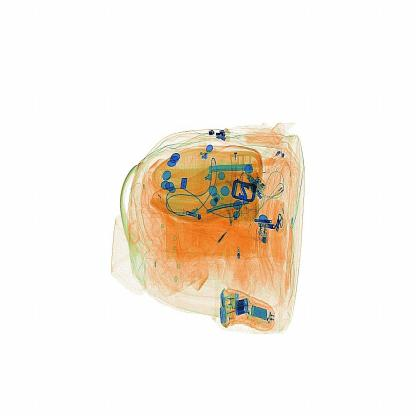wrench: (214, 220, 239, 254)
